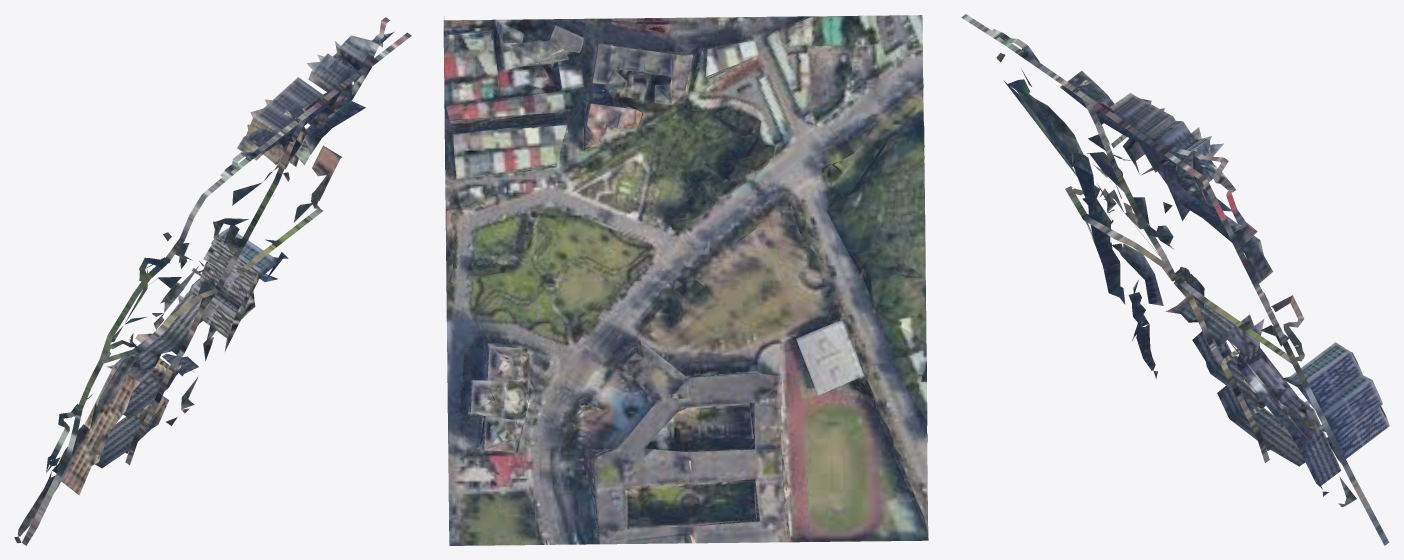
3 renders of one model, left to right at view 1: azimuth 30°, elevation 25°; view 2: azimuth 150°, elevation 25°; view 3: azimuth 270°, elevation 25°, orthographic. The views are drawn at different scales.
Size of the model in its own units: 309 by 287 by 260.
Materials: 2 (2 with a texture image).
